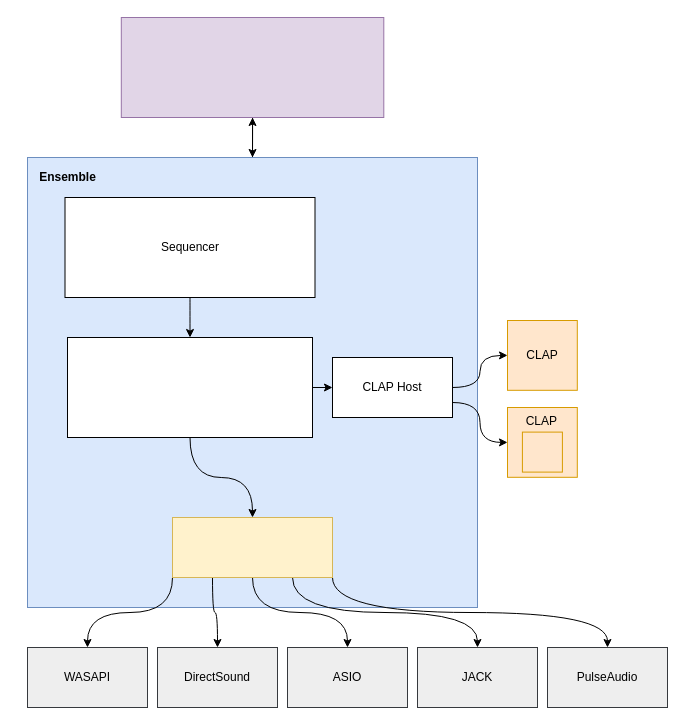
The diagram is 685 pixels wide and 725 high, and some of its shapes have lost their labels. The shapes that lost their labels are listed below. From the top down, each one's centre as x and y in pixels, then its label:
At point 252,67: "Application".
At point 189,387: "Engine".
At point 541,451: "VST".
At point 252,547: "PortAudio".
